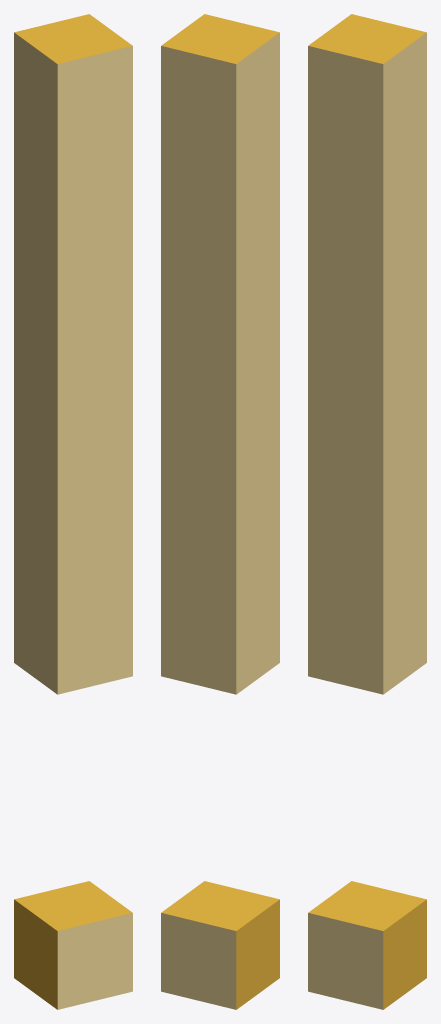
The model's file is right_hand_idle.fbx.
The picture shows the model from 3 angles, left to right: view 1: azimuth 30°, elevation 25°; view 2: azimuth 150°, elevation 25°; view 3: azimuth 330°, elevation 25°; orthographic projection.
Visible parts, largest first — view 1: hand_right.004; view 2: hand_right.004; view 3: hand_right.004.
Part boxes in pixels (x1,y1,x2,y2): hand_right.004: (14, 14, 132, 1009); hand_right.004: (161, 14, 279, 1009); hand_right.004: (308, 14, 426, 1009).
Bounding box in the file's own units: 1 × 12 × 1.
